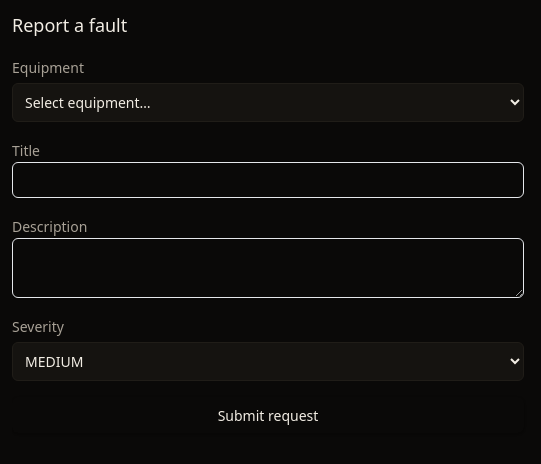
Scenario: NewRequestPage › shows a validation error when title is empty
Select "CRU-104 — Primary crusher — Line 1" in the dropdown labelled "Equipment": (268, 102) [12,83,524,122]
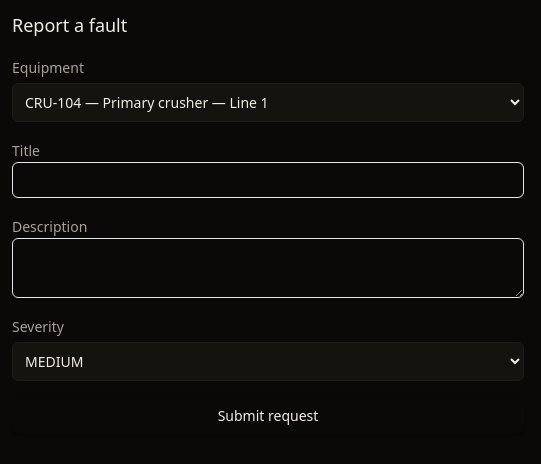
Click the button "Submit request": (268, 415) [12,397,524,433]
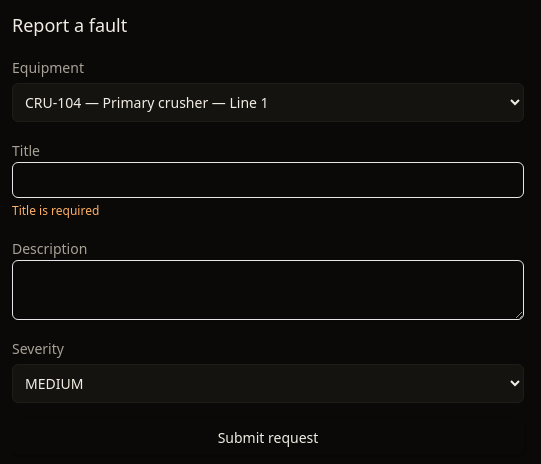
expect the text "Title is required" is shown: met, box [12,202,99,219]
